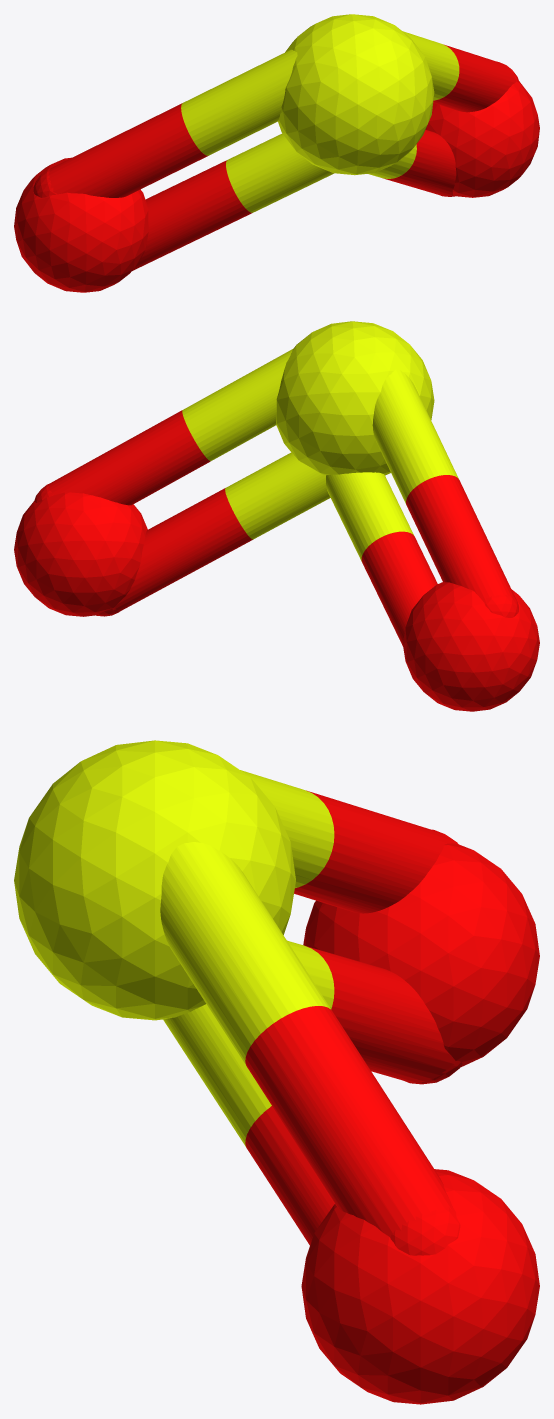
3 renders of one model, top to bottom at view 1: azimuth 30°, elevation 25°; view 2: azimuth 150°, elevation 25°; view 3: azimuth 270°, elevation 25°, orthographic. The views are drawn at different scales.
Parts seen in each view (by area): view 1: Shape_IndexedFaceSet, Shape_IndexedFaceSet.001, Shape_IndexedFaceSet.002, Shape_IndexedFaceSet.017, Shape_IndexedFaceSet.015, Shape_IndexedFaceSet.013, Shape_IndexedFaceSet.011, Shape_IndexedFaceSet.005, Shape_IndexedFaceSet.009, Shape_IndexedFaceSet.003, Shape_IndexedFaceSet.007, Shape_IndexedFaceSet.018; view 2: Shape_IndexedFaceSet, Shape_IndexedFaceSet.001, Shape_IndexedFaceSet.002, Shape_IndexedFaceSet.005, Shape_IndexedFaceSet.017, Shape_IndexedFaceSet.009, Shape_IndexedFaceSet.015, Shape_IndexedFaceSet.003, Shape_IndexedFaceSet.007, Shape_IndexedFaceSet.013, Shape_IndexedFaceSet.011, Shape_IndexedFaceSet.018; view 3: Shape_IndexedFaceSet, Shape_IndexedFaceSet.002, Shape_IndexedFaceSet.001, Shape_IndexedFaceSet.005, Shape_IndexedFaceSet.003, Shape_IndexedFaceSet.017, Shape_IndexedFaceSet.013, Shape_IndexedFaceSet.007, Shape_IndexedFaceSet.009, Shape_IndexedFaceSet.015, Shape_IndexedFaceSet.006, Shape_IndexedFaceSet.011.
Boxes of the visible parts, x1,y1,x2,y2 form: Shape_IndexedFaceSet: [278, 14, 434, 175]; Shape_IndexedFaceSet.001: [14, 157, 148, 292]; Shape_IndexedFaceSet.002: [425, 81, 539, 197]; Shape_IndexedFaceSet.017: [48, 103, 208, 197]; Shape_IndexedFaceSet.015: [181, 49, 297, 155]; Shape_IndexedFaceSet.013: [132, 160, 251, 270]; Shape_IndexedFaceSet.011: [226, 133, 333, 212]; Shape_IndexedFaceSet.005: [433, 44, 516, 112]; Shape_IndexedFaceSet.009: [384, 130, 456, 196]; Shape_IndexedFaceSet.003: [402, 31, 459, 100]; Shape_IndexedFaceSet.007: [368, 144, 416, 178]; Shape_IndexedFaceSet.018: [33, 168, 56, 197]; Shape_IndexedFaceSet: [276, 321, 434, 475]; Shape_IndexedFaceSet.001: [403, 582, 539, 711]; Shape_IndexedFaceSet.002: [14, 492, 147, 616]; Shape_IndexedFaceSet.005: [48, 410, 210, 505]; Shape_IndexedFaceSet.017: [406, 475, 515, 600]; Shape_IndexedFaceSet.009: [115, 488, 252, 611]; Shape_IndexedFaceSet.015: [372, 369, 458, 503]; Shape_IndexedFaceSet.003: [182, 348, 293, 461]; Shape_IndexedFaceSet.007: [225, 452, 330, 539]; Shape_IndexedFaceSet.013: [361, 531, 437, 645]; Shape_IndexedFaceSet.011: [326, 472, 414, 561]; Shape_IndexedFaceSet.018: [482, 594, 518, 617]; Shape_IndexedFaceSet: [14, 740, 295, 1020]; Shape_IndexedFaceSet.002: [301, 1169, 539, 1404]; Shape_IndexedFaceSet.001: [303, 843, 539, 1067]; Shape_IndexedFaceSet.005: [245, 1006, 452, 1237]; Shape_IndexedFaceSet.003: [160, 842, 330, 1064]; Shape_IndexedFaceSet.017: [294, 790, 452, 913]; Shape_IndexedFaceSet.013: [306, 946, 454, 1082]; Shape_IndexedFaceSet.007: [163, 1004, 271, 1146]; Shape_IndexedFaceSet.009: [245, 1106, 334, 1245]; Shape_IndexedFaceSet.015: [240, 770, 334, 887]; Shape_IndexedFaceSet.006: [390, 1206, 460, 1255]; Shape_IndexedFaceSet.011: [287, 940, 334, 1008].
Size of the model in its own units: 0.3673 by 0.1895 by 0.1895.
